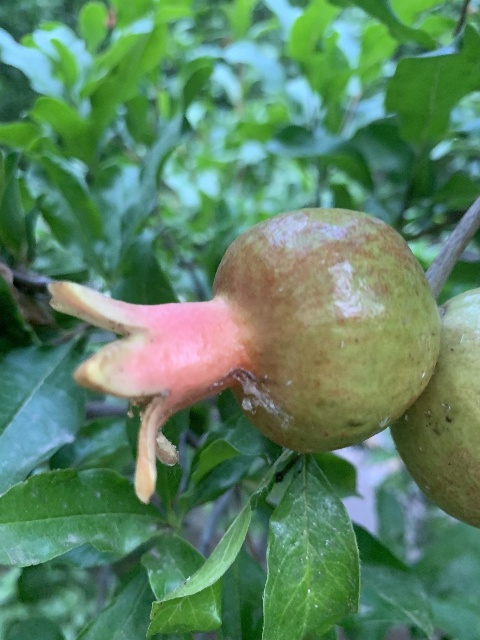early-fruit: (53, 208, 440, 507)
